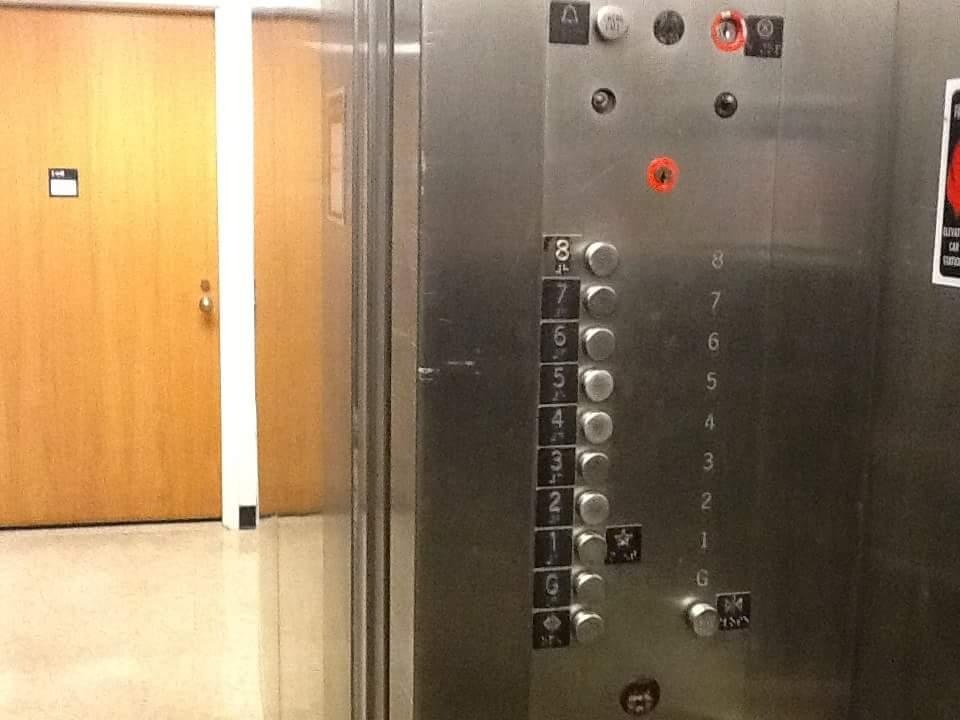1: (533, 527, 574, 569)
2: (535, 487, 575, 526)
3: (534, 443, 577, 487)
4: (538, 407, 577, 444)
5: (538, 363, 578, 405)
6: (538, 321, 579, 362)
7: (540, 279, 581, 320)
8: (540, 233, 585, 277)
G: (532, 570, 570, 610)
alarm: (547, 1, 593, 46)
close: (716, 591, 753, 632)
empty: (684, 600, 720, 640), (572, 569, 607, 609), (575, 490, 612, 527), (582, 286, 618, 322), (582, 326, 616, 364), (584, 241, 619, 277), (581, 409, 614, 447), (580, 368, 614, 404), (573, 610, 607, 646), (578, 451, 612, 486), (575, 529, 606, 566)
keyhole: (649, 5, 688, 50), (708, 8, 747, 53), (644, 154, 681, 196)
open: (530, 607, 573, 650)
s: (605, 522, 645, 566)
stop: (741, 13, 787, 59)
text_blur: (621, 673, 664, 720), (591, 1, 634, 46)
